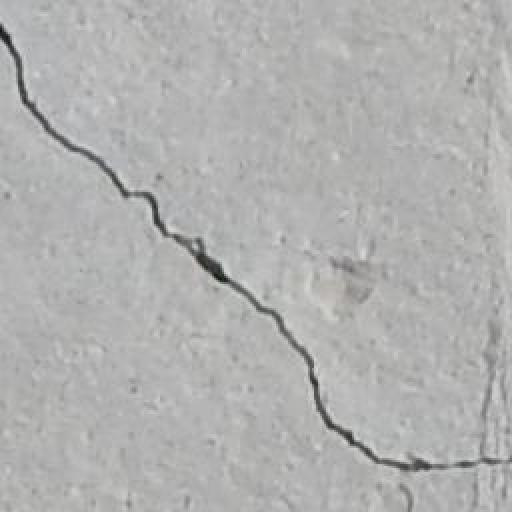spalling: (1, 17, 505, 487)
